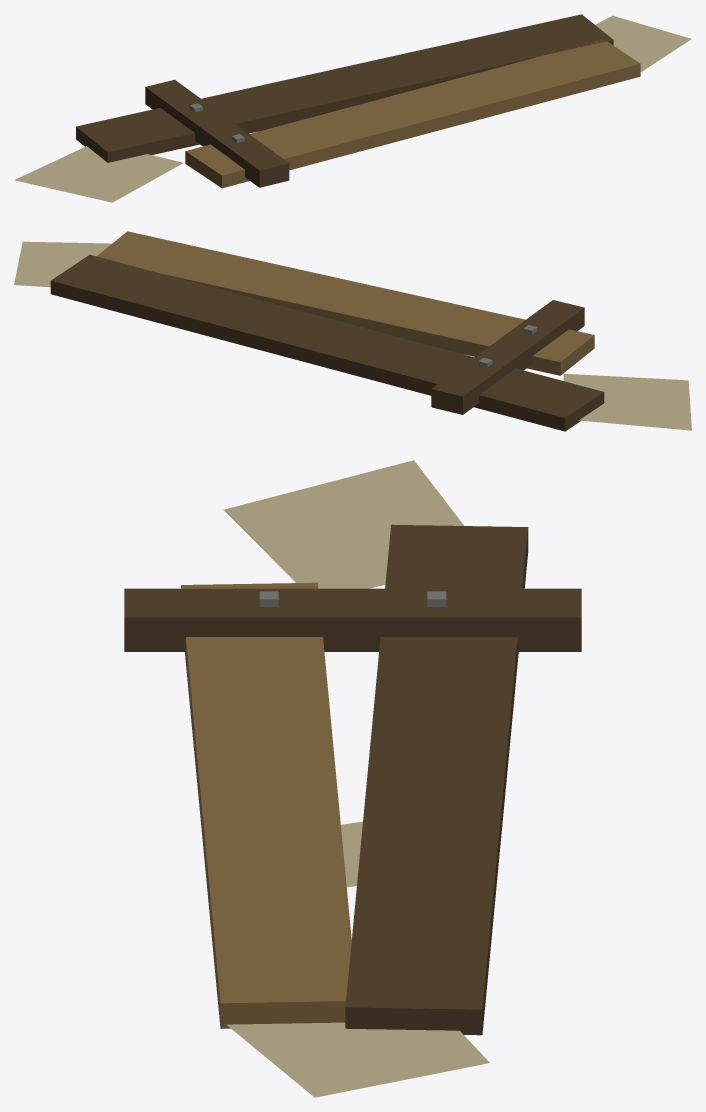
File: drowned_float_plank.glb
The picture shows the model from 3 angles, top to bottom: view 1: azimuth 30°, elevation 25°; view 2: azimuth 150°, elevation 25°; view 3: azimuth 270°, elevation 25°; orthographic projection. The views are drawn at different scales.
Visible parts, largest first — view 1: drowned_float_plank; view 2: drowned_float_plank; view 3: drowned_float_plank.
Part boxes in pixels (x1=…): drowned_float_plank: x1=14, y1=14, x2=691, y2=202; drowned_float_plank: x1=14, y1=231, x2=691, y2=431; drowned_float_plank: x1=124, y1=460, x2=581, y2=1097.
Bounding box in the file's own units: 1.98 × 0.076 × 0.6.
